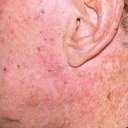Actinic: (34, 6, 63, 52), (46, 61, 71, 90), (104, 90, 119, 104)
